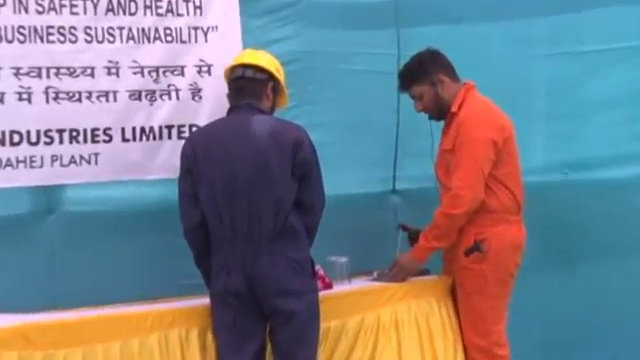helmet: (222, 47, 287, 105)
helmet_off: (395, 45, 469, 126)
helmet_on: (220, 46, 288, 116)
person: (178, 44, 327, 360), (386, 44, 530, 360)
